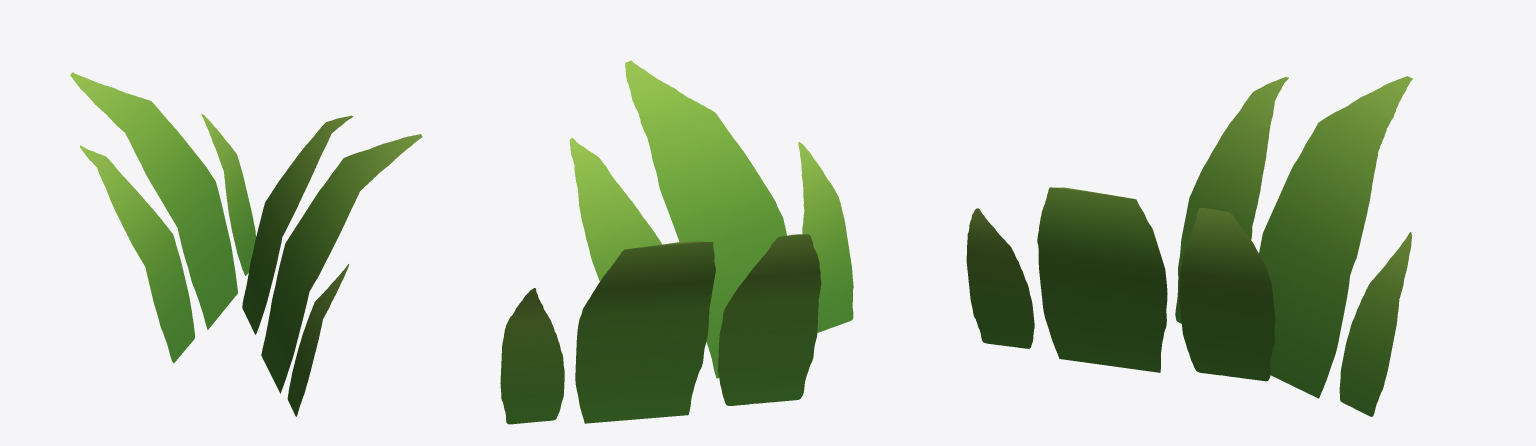
File: grass.fbx
3 views of the same model, side by side, from view 1: azimuth 30°, elevation 25°; view 2: azimuth 150°, elevation 25°; view 3: azimuth 270°, elevation 25° (orthographic). The views are drawn at different scales.
Parts seen in each view (by area): view 1: pPlane17; view 2: pPlane17; view 3: pPlane17.
Boxes of the visible parts, x1=… form: pPlane17: x1=70, y1=72, x2=422, y2=416; pPlane17: x1=500, y1=60, x2=853, y2=424; pPlane17: x1=966, y1=76, x2=1412, y2=416.
Size of the model in its own units: 2.87 by 1.68 by 3.73.
1 material, 1 textured.
